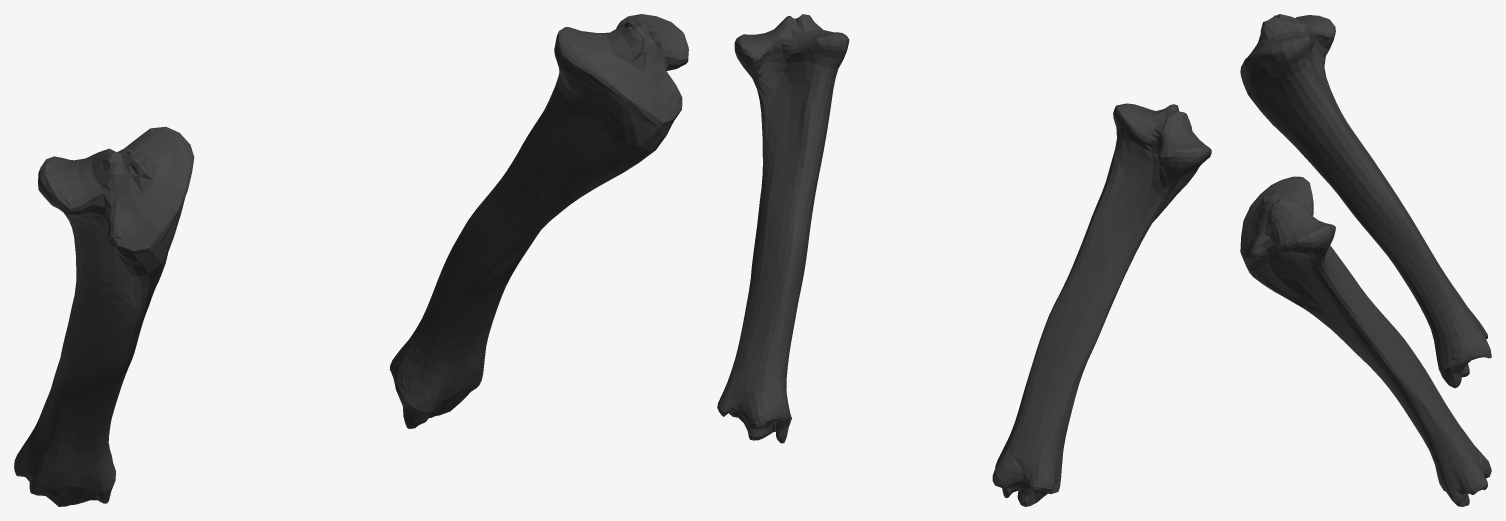
The model's file is b_tibia_L_LO.glb.
3 views of the same model, side by side, from view 1: azimuth 30°, elevation 25°; view 2: azimuth 150°, elevation 25°; view 3: azimuth 270°, elevation 25° (orthographic). The views are drawn at different scales.
Parts seen in each view (by area): view 1: b_tibia_L_LO; view 2: b_tibia_L_LO; view 3: b_tibia_L_LO.
Part boxes in pixels (bbox=[...]): b_tibia_L_LO: bbox=[14, 14, 688, 506]; b_tibia_L_LO: bbox=[717, 14, 1211, 506]; b_tibia_L_LO: bbox=[1240, 14, 1491, 506].
Bounding box in the file's own units: 0.00536 × 0.00376 × 0.00255.
Materials: 1 (1 with a texture image).
